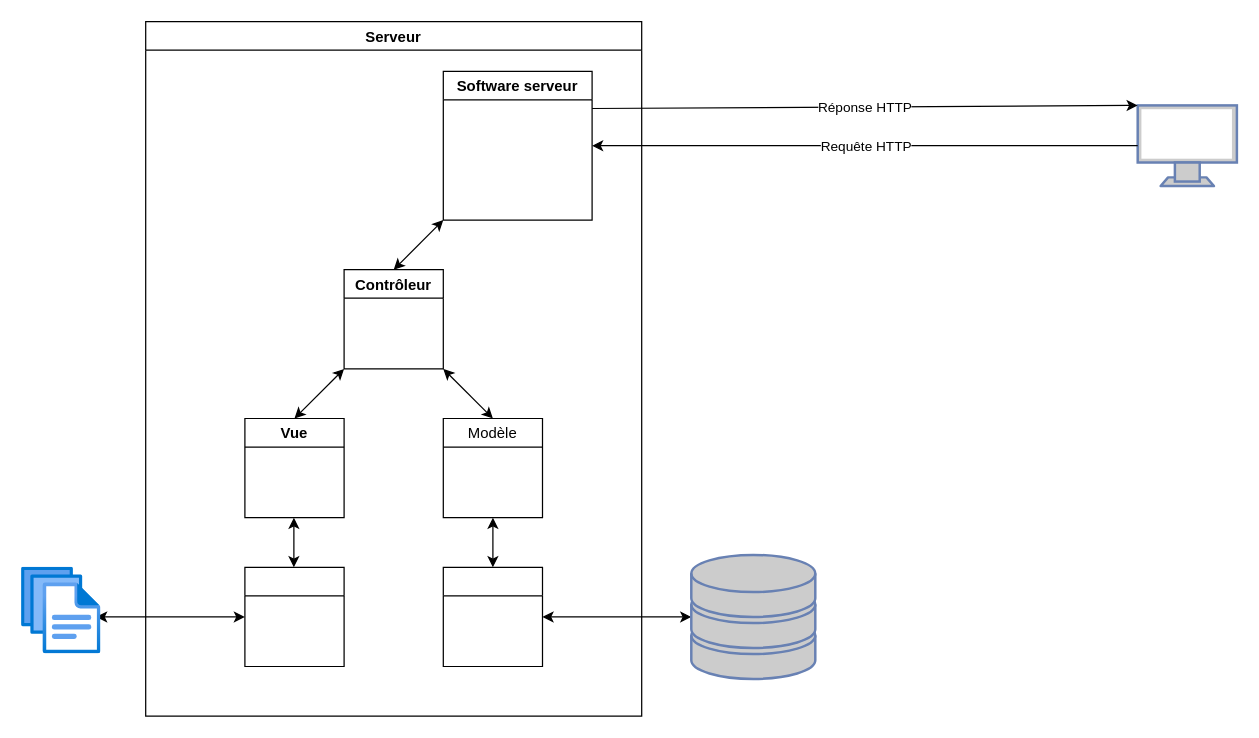
This 1259x738 diagram has some shape labels left out. Here are the shapes that lost their labels. From the top down, the box of each, then its label:
(1136, 104, 1238, 187): Client
(244, 566, 344, 666): Templates
(442, 566, 542, 666): DAO
